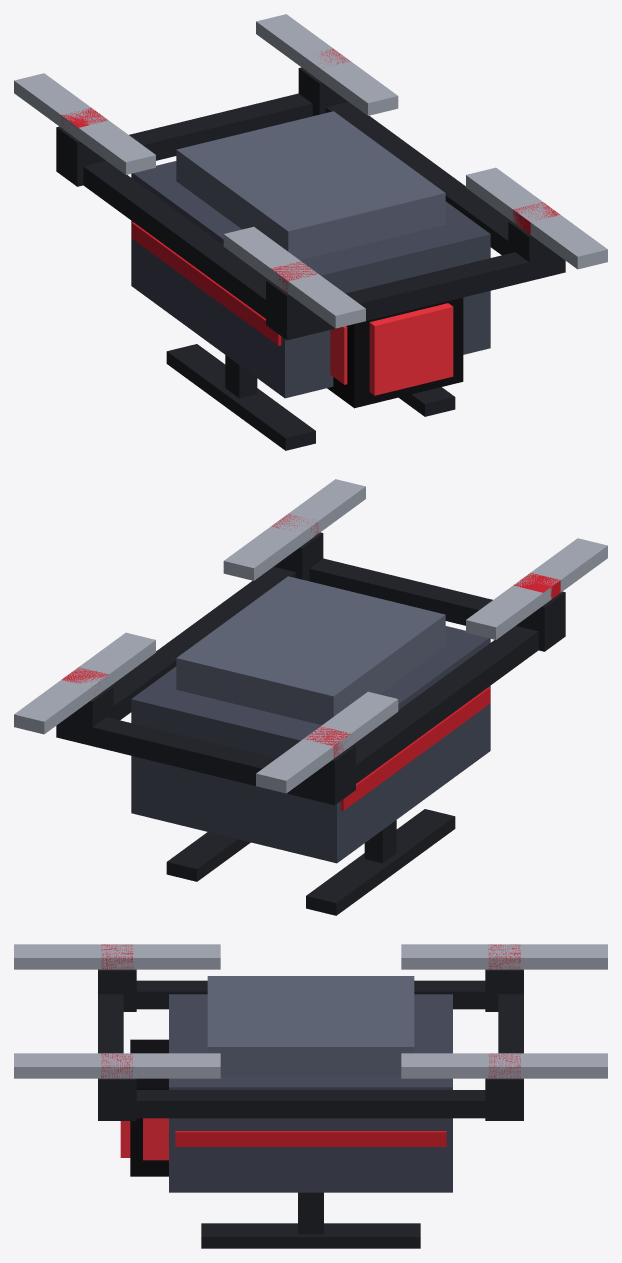
Rendered from drone.obj.
The picture shows the model from 3 angles, top to bottom: view 1: azimuth 30°, elevation 25°; view 2: azimuth 150°, elevation 25°; view 3: azimuth 270°, elevation 25°; orthographic projection. The views are drawn at different scales.
Visible parts, largest first — view 1: drone; view 2: drone; view 3: drone.
Boxes of the visible parts, left/top/right/bottom form: drone: left=14, top=14, right=607, bottom=450; drone: left=14, top=479, right=607, bottom=915; drone: left=14, top=944, right=607, bottom=1248.
Size of the model in its own units: 0.46 by 0.35 by 0.92.
Materials: 1 (1 with a texture image).
